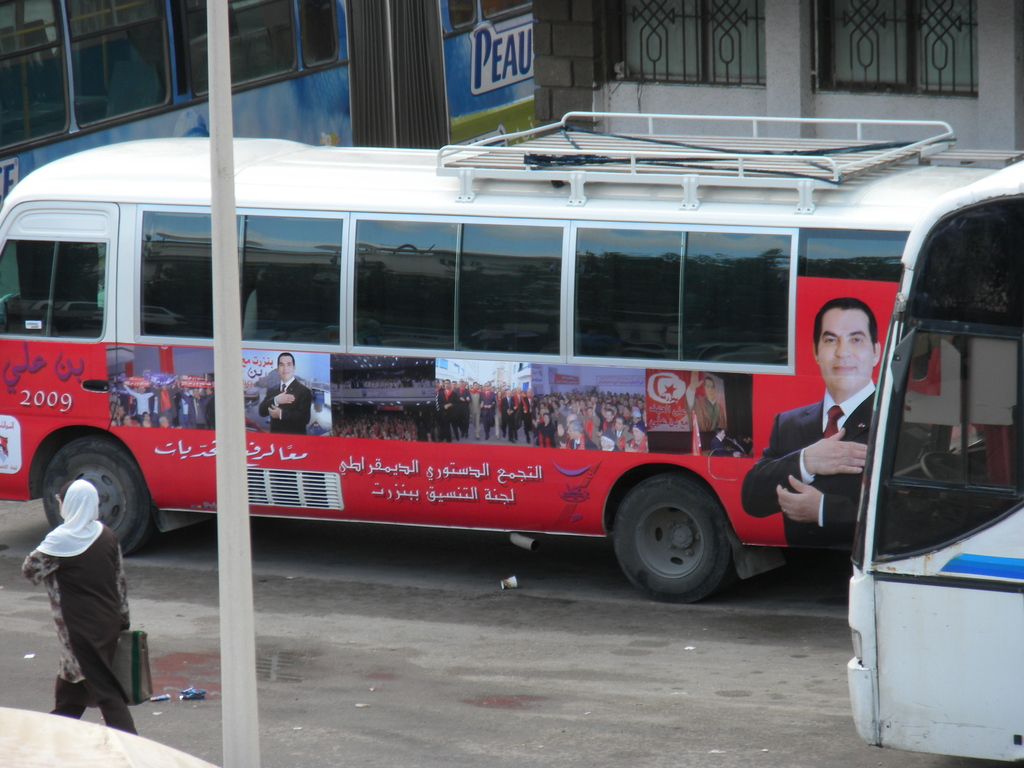Bus: (0, 110, 1023, 603), (848, 156, 1020, 764)
